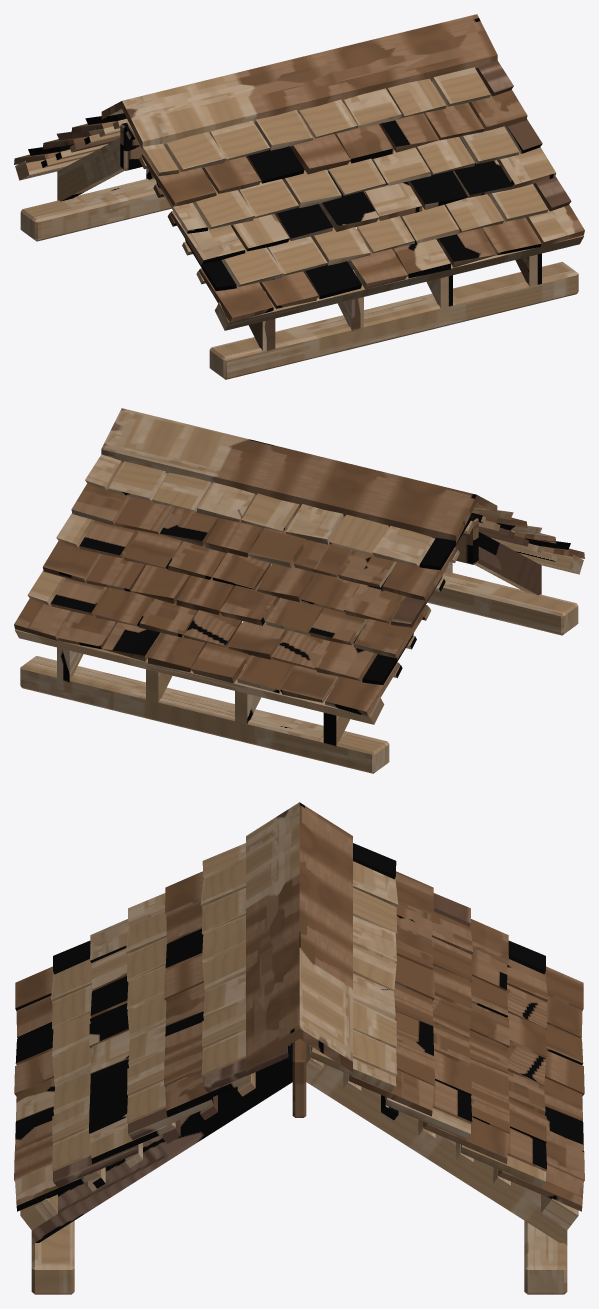
Rendered from roof_section.glb.
3 renders of one model, top to bottom at view 1: azimuth 30°, elevation 25°; view 2: azimuth 150°, elevation 25°; view 3: azimuth 270°, elevation 25°, orthographic. The views are drawn at different scales.
Parts seen in each view (by area): view 1: ridge_cap, wall_plate_front, shingle_row_full_0_front, shingle_row_full_1_front, shingle_row_full_2_front, shingle_row_offset_2_front, shingle_row_offset_0_front, shingle_row_offset_1_front, wall_plate_back, eave_board_front, rafter_0_back, shingle_half_2_front_right (+11 smaller); view 2: ridge_cap, wall_plate_back, shingle_row_full_0_back, shingle_row_full_1_back, shingle_row_full_2_back, shingle_row_offset_2_back, shingle_row_offset_0_back, shingle_row_offset_1_back, wall_plate_front, eave_board_back, rafter_0_front, shingle_half_2_back_right (+11 smaller); view 3: ridge_cap, shingle_row_full_0_front, shingle_row_full_0_back, shingle_row_full_1_front, shingle_row_full_1_back, shingle_row_full_2_front, shingle_row_full_2_back, shingle_row_offset_2_front, shingle_row_offset_2_back, shingle_row_offset_0_front, shingle_row_offset_0_back, shingle_row_offset_1_front (+20 smaller).
Boxes of the visible parts, box(x1,y1,x2,y2) form: ridge_cap: box(101, 14, 497, 149); wall_plate_front: box(209, 262, 578, 379); shingle_row_full_0_front: box(198, 196, 584, 323); shingle_row_full_1_front: box(170, 131, 555, 265); shingle_row_full_2_front: box(141, 82, 527, 207); shingle_row_offset_2_front: box(164, 67, 490, 171); shingle_row_offset_0_front: box(221, 184, 548, 286); shingle_row_offset_1_front: box(193, 126, 519, 229); wall_plate_back: box(20, 169, 327, 241); eave_board_front: box(214, 235, 583, 330); rafter_0_back: box(57, 138, 124, 201); shingle_half_2_front_right: box(475, 60, 513, 96); ridge_cap: box(101, 408, 497, 543); wall_plate_back: box(20, 656, 389, 773); shingle_row_full_0_back: box(14, 590, 400, 717); shingle_row_full_1_back: box(43, 525, 428, 659); shingle_row_full_2_back: box(71, 476, 457, 601); shingle_row_offset_2_back: box(108, 461, 434, 565); shingle_row_offset_0_back: box(50, 578, 377, 680); shingle_row_offset_1_back: box(79, 520, 405, 623); wall_plate_front: box(271, 563, 578, 635); eave_board_back: box(15, 629, 384, 724); rafter_0_front: box(474, 532, 541, 595); shingle_half_2_back_right: box(85, 454, 123, 490); ridge_cap: box(246, 802, 352, 1072); shingle_row_full_0_front: box(14, 966, 100, 1211); shingle_row_full_0_back: box(498, 966, 584, 1211); shingle_row_full_1_front: box(89, 919, 175, 1163); shingle_row_full_1_back: box(423, 919, 509, 1163); shingle_row_full_2_front: box(164, 871, 250, 1116); shingle_row_full_2_back: box(348, 871, 434, 1116); shingle_row_offset_2_front: box(200, 861, 290, 1076); shingle_row_offset_2_back: box(308, 861, 398, 1076); shingle_row_offset_0_front: box(51, 959, 92, 1171); shingle_row_offset_0_back: box(506, 959, 547, 1171); shingle_row_offset_1_front: box(126, 911, 167, 1123).
Size of what is drawn, in the model's own units: 2 by 1.1 by 2.13.
Materials: 3 (3 with a texture image).
